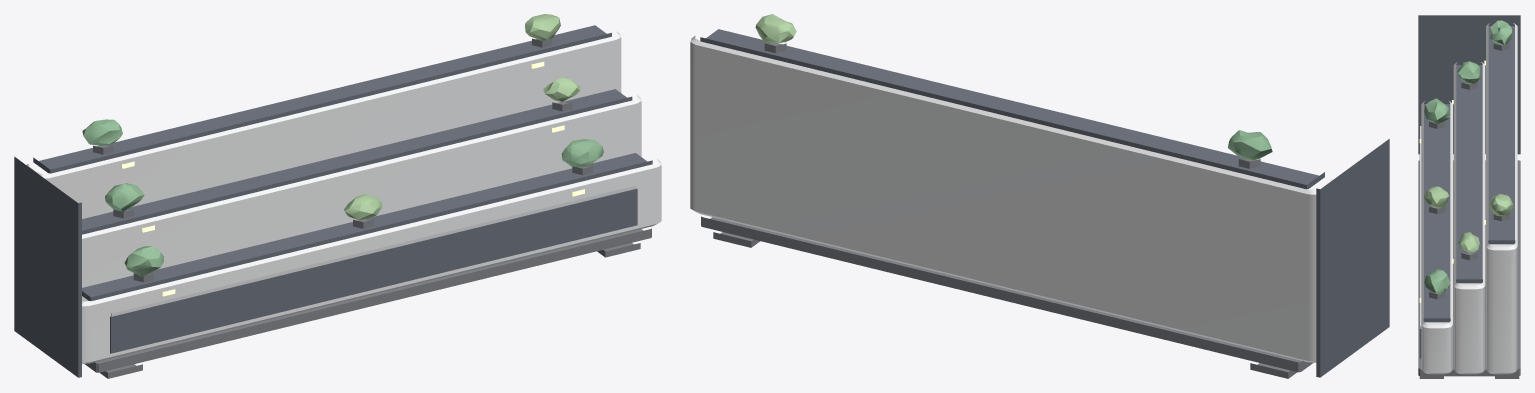
Rendered from hydro_planter_tiered_ts2_02.glb.
3 views of the same model, side by side, from view 1: azimuth 30°, elevation 25°; view 2: azimuth 150°, elevation 25°; view 3: azimuth 270°, elevation 25° (orthographic). The views are drawn at different scales.
Parts seen in each view (by area): view 1: Tiers, Tier_Lids, Reservoir, End_Cap, Base_Frame, Foliage, Foliage_Light, Reservoir_Seal, Net_Cup_Clips, Clamp_Shoes; view 2: Tiers, End_Cap, Tier_Lids, Base_Frame, Foliage, Foliage_Light, Clamp_Shoes; view 3: Tier_Lids, Tiers, End_Cap, Base_Frame, Foliage, Foliage_Light, Net_Cup_Clips, Reservoir_Seal, Reservoir, Clamp_Shoes.
Boxes of the visible parts, box(x1,y1,x2,y2) form: Tiers: box(26, 31, 661, 363); Tier_Lids: box(33, 25, 652, 301); Reservoir: box(110, 188, 637, 353); End_Cap: box(14, 156, 81, 377); Base_Frame: box(85, 228, 651, 372); Foliage: box(82, 119, 603, 276); Foliage_Light: box(344, 14, 580, 219); Reservoir_Seal: box(111, 185, 635, 316); Net_Cup_Clips: box(93, 38, 592, 282); Clamp_Shoes: box(100, 243, 640, 378); Tiers: box(690, 35, 1332, 362); End_Cap: box(1316, 139, 1389, 377); Tier_Lids: box(700, 29, 1324, 189); Base_Frame: box(701, 216, 1313, 372); Foliage: box(1228, 130, 1272, 160); Foliage_Light: box(755, 14, 796, 43); Clamp_Shoes: box(713, 232, 1297, 378); Tier_Lids: box(1423, 26, 1515, 322); Tiers: box(1421, 23, 1517, 374); End_Cap: box(1418, 15, 1520, 154); Base_Frame: box(1418, 160, 1520, 376); Foliage: box(1424, 20, 1512, 294); Foliage_Light: box(1423, 186, 1513, 252); Net_Cup_Clips: box(1429, 43, 1509, 299); Reservoir_Seal: box(1420, 126, 1421, 328); Reservoir: box(1419, 154, 1421, 358); Clamp_Shoes: box(1419, 376, 1519, 378).
Size of the model in its own units: 2.01 by 0.6833 by 0.38.
